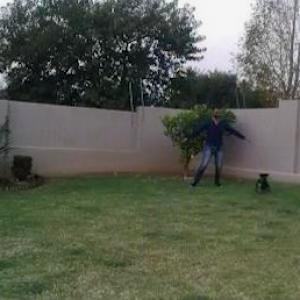land: (167, 92, 246, 200)
